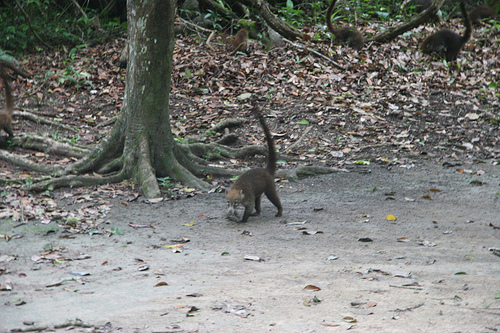cat: (224, 87, 285, 227)
